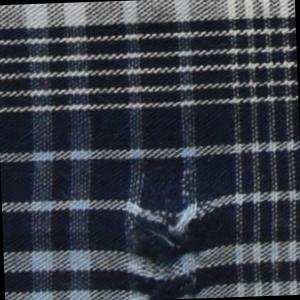Damage: (123, 185, 216, 300)
